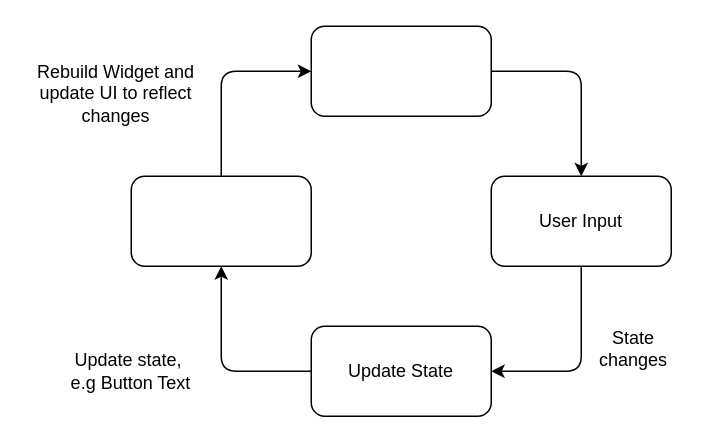
Some shapes in this 704 by 443 pixel diagram are drawn without their labels. Each missing label, with the box of its shape:
State: (130, 175, 311, 266)
UI: (310, 25, 491, 116)
